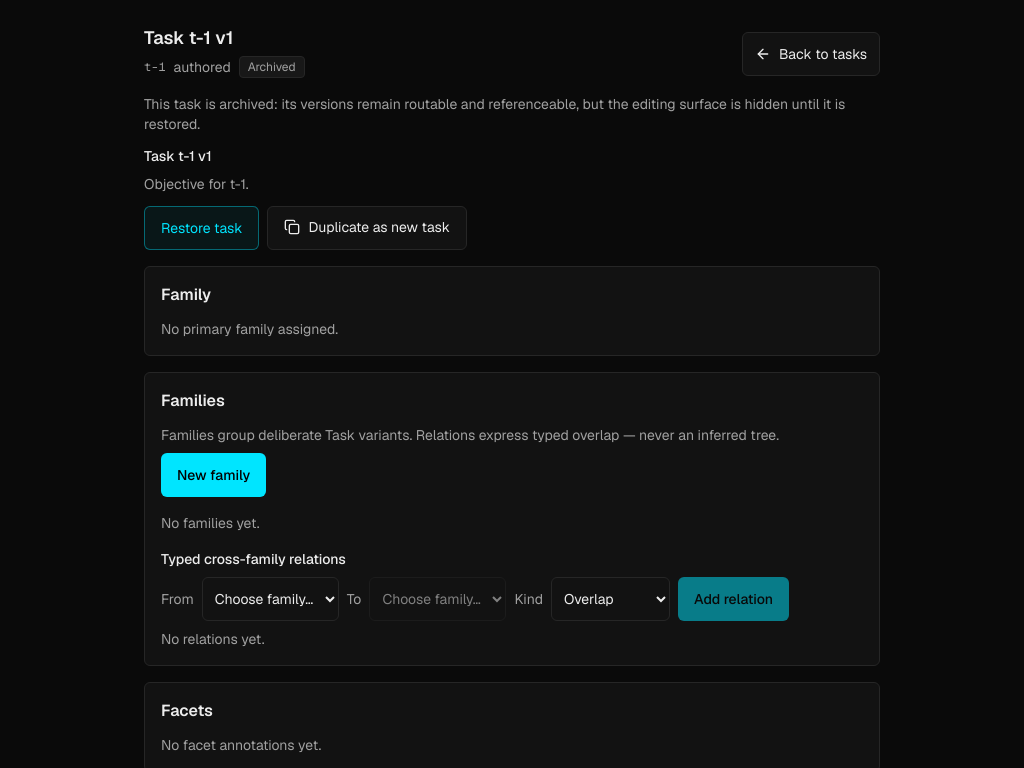
Scenario: TaskDetailRoute — archive/restore with revision CAS (spec §4.5) › restoring a Task returns it to the editing surface with a bumped revision
Click the button "Restore task". click: (202, 228)
box: [144,206,260,250]
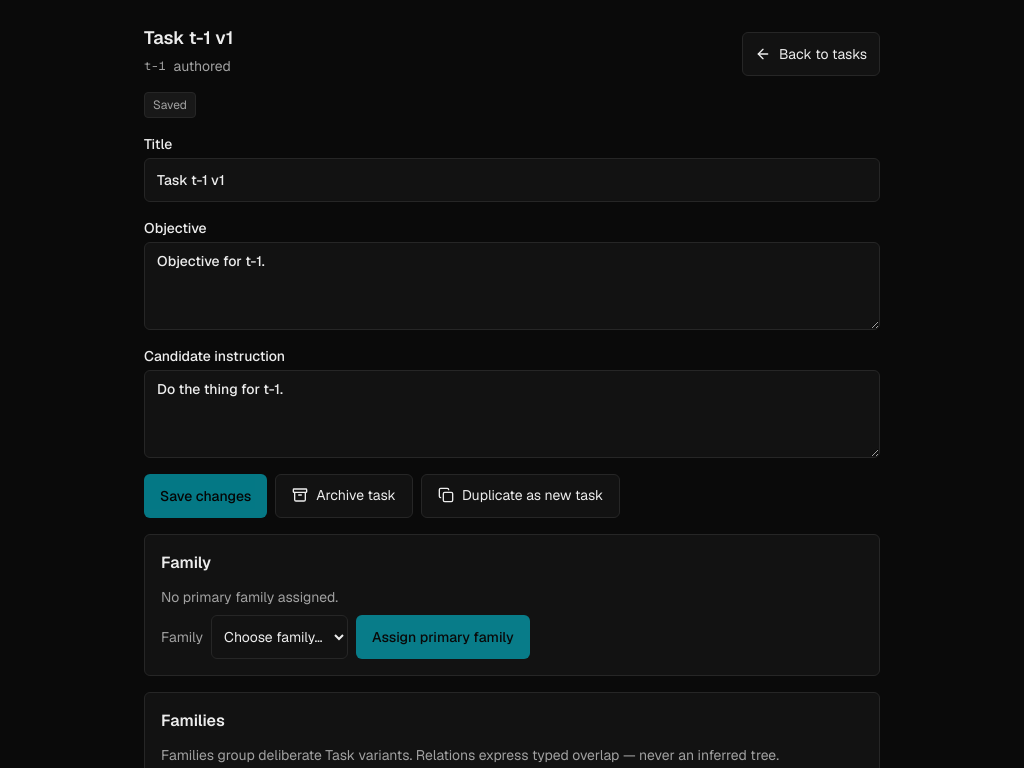
Expected: the field labelled "Title" is shown, [144,158,880,202]
Expected: the text "Saved" is shown, [144,92,196,118]
